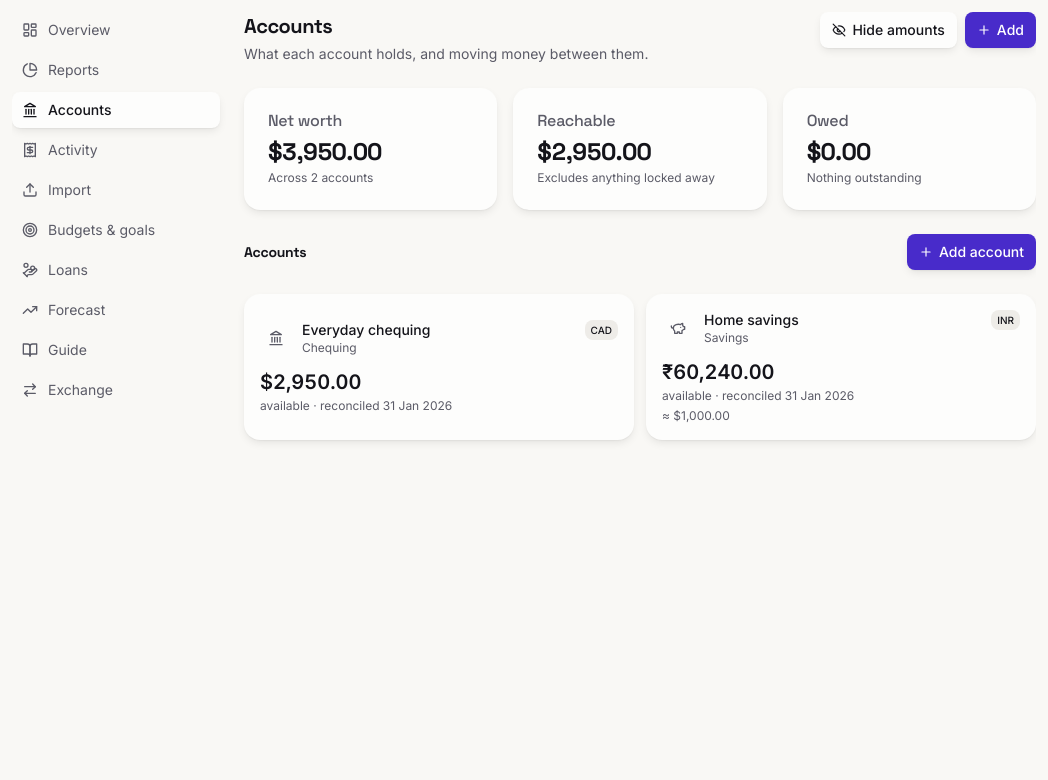
Test: the finance workspace › renders Budgets & goals with no placeholder
Click the button "Budgets & goals" at (116, 230), box 12,212 -> 220,248
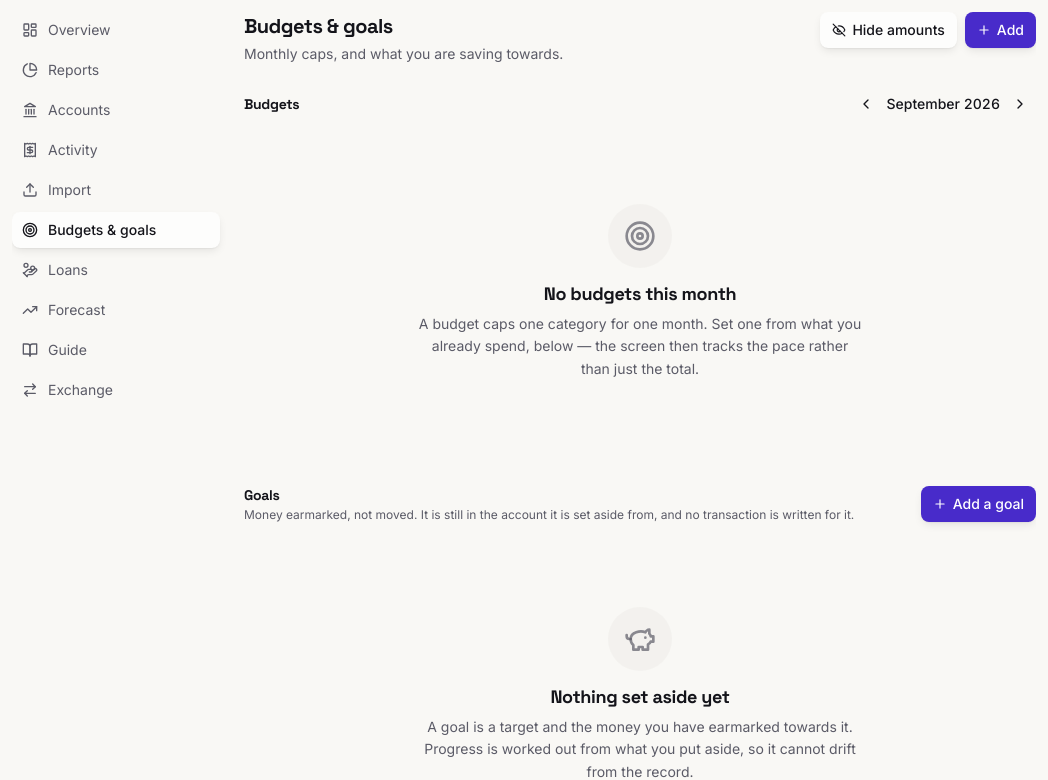
Check: the heading "Budgets & goals" is shown, box 244,13 -> 393,39
